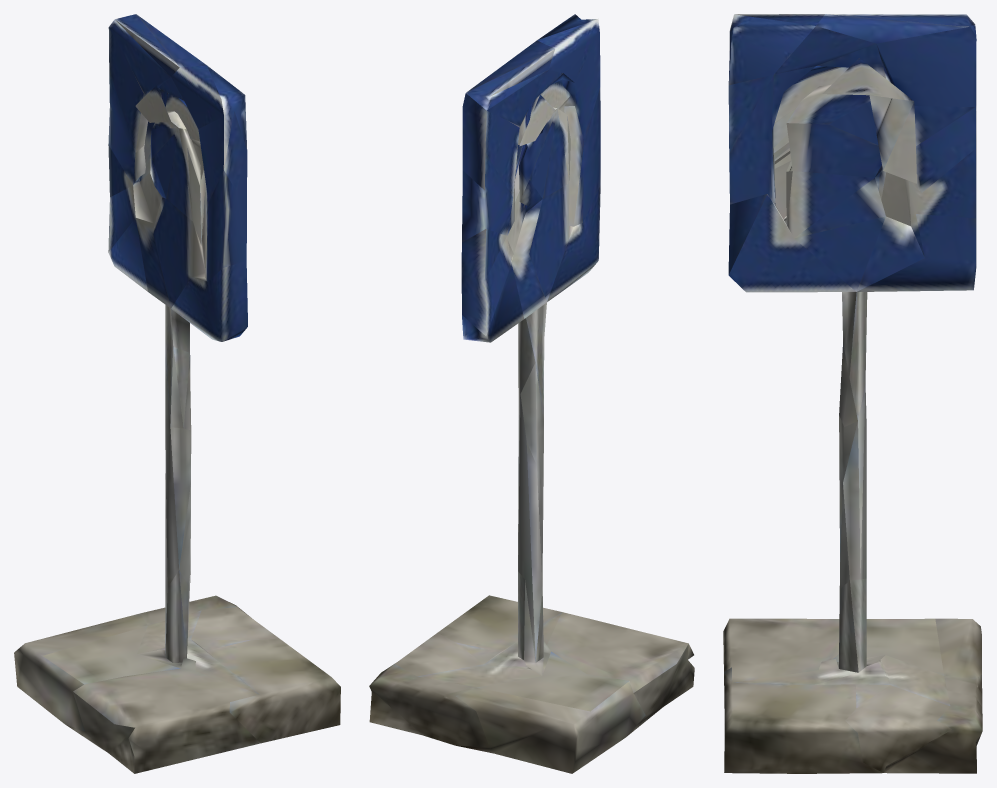
File: putar_kanan_lod2.glb
3 views of the same model, side by side, from view 1: azimuth 30°, elevation 25°; view 2: azimuth 150°, elevation 25°; view 3: azimuth 270°, elevation 25° (orthographic). The views are drawn at different scales.
Visible parts, largest first — view 1: tripo_node_6b93a14c; view 2: tripo_node_6b93a14c; view 3: tripo_node_6b93a14c.
Boxes of the visible parts, <box> form: tripo_node_6b93a14c: <box>14,14,340,773</box>; tripo_node_6b93a14c: <box>369,14,694,773</box>; tripo_node_6b93a14c: <box>723,14,982,773</box>.
Size of the model in its own units: 33.6 by 99.87 by 33.56.
Materials: 1 (1 with a texture image).
